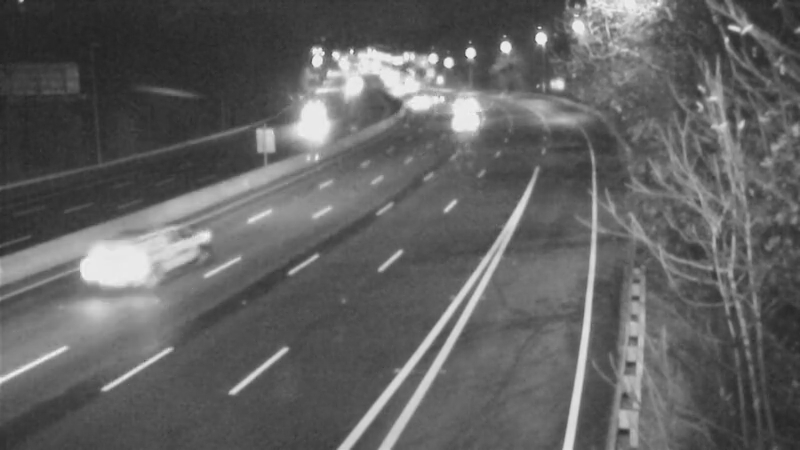vehicle: (78, 230, 158, 310), (414, 75, 464, 125), (393, 78, 443, 128), (432, 80, 482, 130), (437, 100, 487, 150), (291, 94, 341, 144), (326, 61, 376, 111)
